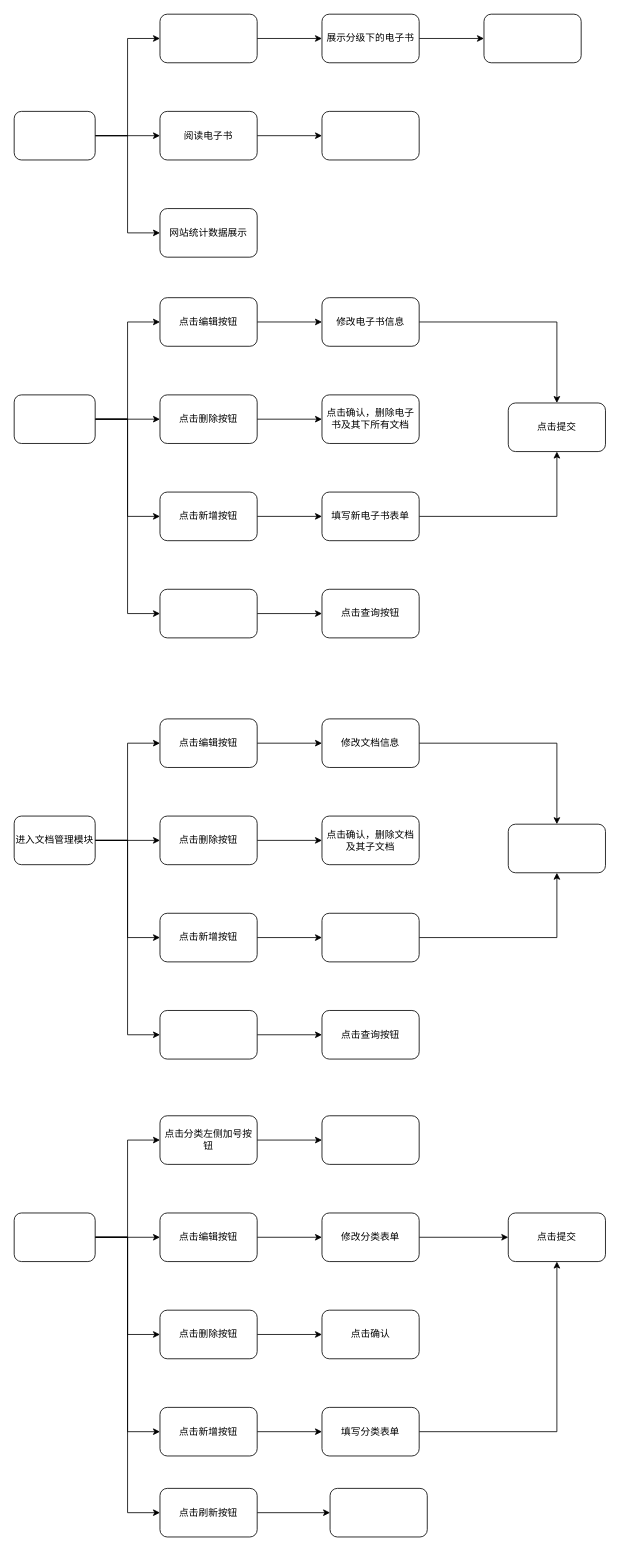
The diagram is 620 pixels wide and 1551 high, and some of its shapes have lost their labels. Here are the shapes that lost their labels. From the top down, the box of each, then its label:
(159, 13, 257, 63): 点击导航栏
(483, 13, 581, 63): 点击电子书， 跳转到电子书展示网页
(13, 111, 95, 160): 进入网站
(321, 111, 419, 160): 左侧目录展示文档
(13, 394, 95, 443): 进入电子书管理模块
(159, 588, 257, 638): 输入书名关键字
(507, 823, 605, 873): 点击保存
(321, 912, 419, 962): 填写文档信息，包括名称、父文档、顺序、文档内容
(159, 1010, 257, 1059): 输入文档关键字
(321, 1115, 419, 1164): 展开二级分类
(13, 1212, 95, 1262): 进入分类管理模块
(329, 1488, 427, 1537): 获取最新分类列表
